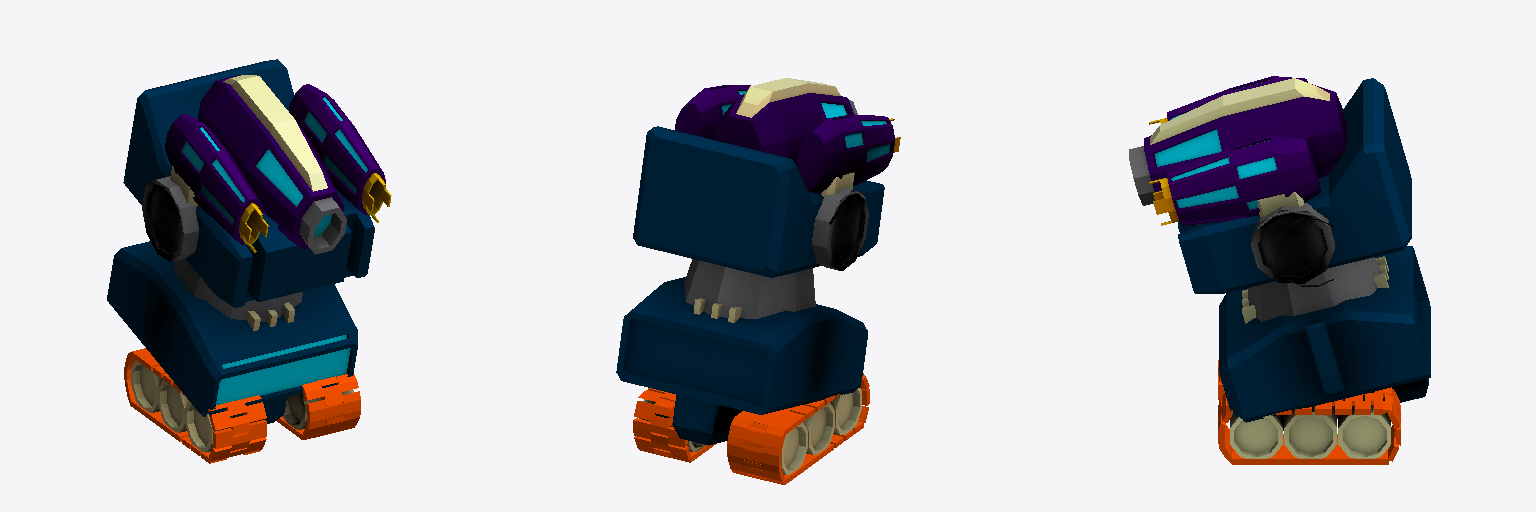
3 views of the same model, side by side, from view 1: azimuth 30°, elevation 25°; view 2: azimuth 150°, elevation 25°; view 3: azimuth 270°, elevation 25° (orthographic).
Visible parts, largest first — view 1: Object009, Box029, Object004, Box028; view 2: Object009, Box029, Object004, Box028; view 3: Object009, Object004, Box028.
Part boxes in pixels (x1,y1,x2,y2): Object009: (107,59,391,423); Box029: (124,348,266,463); Object004: (131,184,353,452); Box028: (276,374,360,439); Object009: (616,78,900,445); Box029: (727,373,869,484); Object004: (639,212,861,474); Box028: (633,388,715,462); Object009: (1129,76,1430,430); Object004: (1230,219,1390,458); Box028: (1218,387,1400,464).
Bounding box in the file's own units: 211 × 387 × 307.
4 materials, 3 textured.